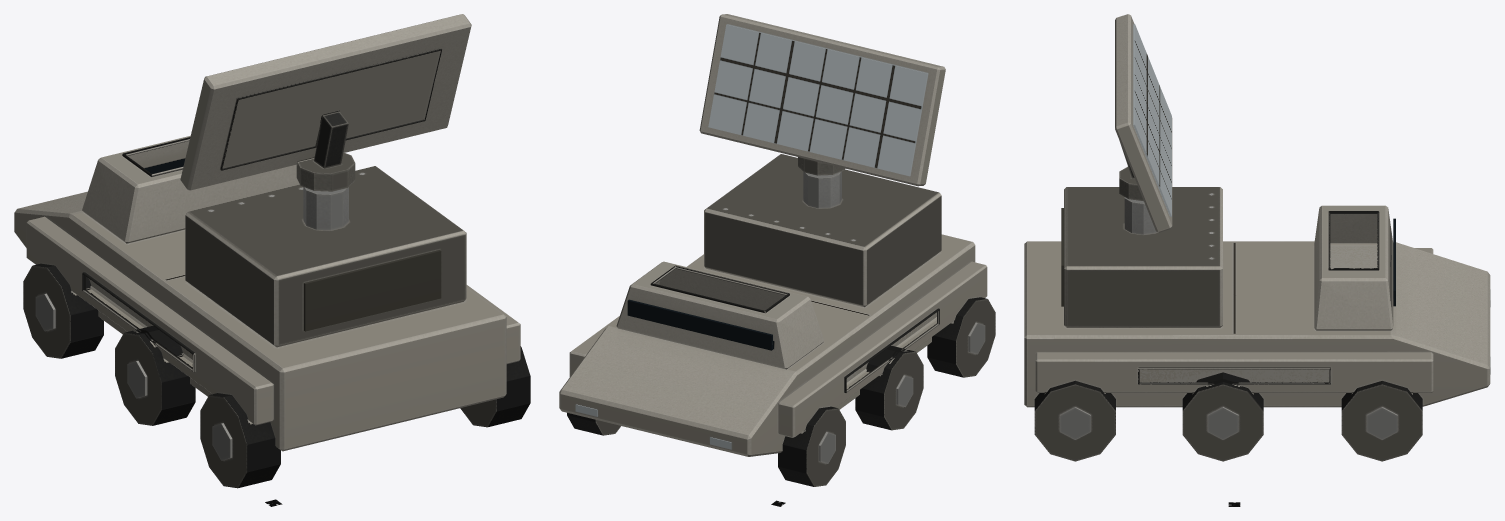
The model's file is ord_oracle.fbx.
The picture shows the model from 3 angles, left to right: view 1: azimuth 30°, elevation 25°; view 2: azimuth 150°, elevation 25°; view 3: azimuth 270°, elevation 25°; orthographic projection. The views are drawn at different scales.
Parts seen in each view (by area): view 1: base_bar, dish_bar; view 2: base_bar, dish_bar; view 3: base_bar, dish_bar.
Boxes of the visible parts, bbox=[...] form: base_bar: bbox=[14, 135, 530, 488]; dish_bar: bbox=[180, 14, 471, 191]; base_bar: bbox=[559, 154, 995, 486]; dish_bar: bbox=[699, 14, 945, 186]; base_bar: bbox=[1024, 187, 1490, 461]; dish_bar: bbox=[1115, 14, 1172, 232].
Size of the model in its own units: 508 by 847 by 821.
Materials: 2 (2 with a texture image).
